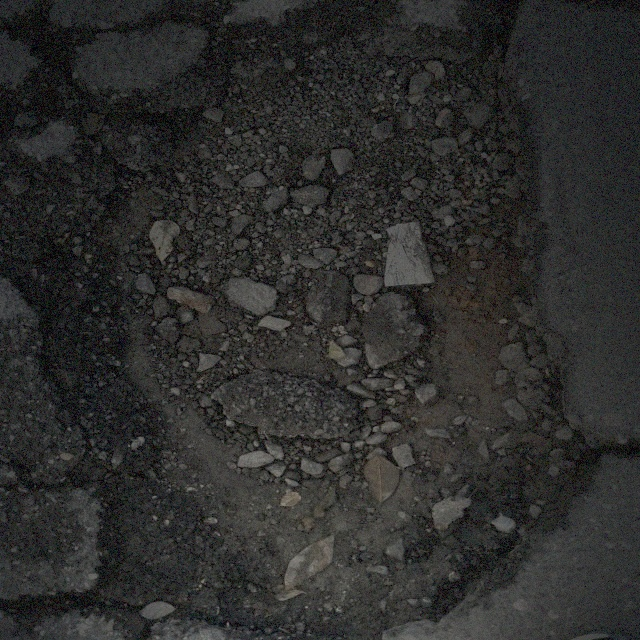pothole: (34, 38, 576, 586)
